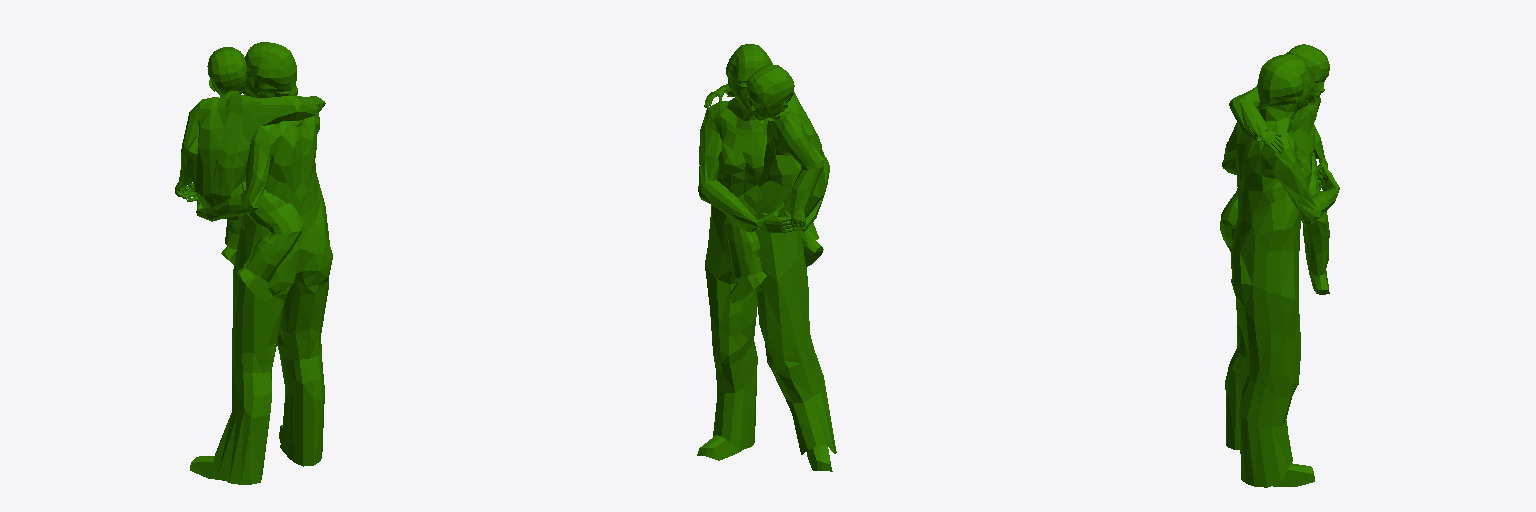
3 views of the same model, side by side, from view 1: azimuth 30°, elevation 25°; view 2: azimuth 150°, elevation 25°; view 3: azimuth 270°, elevation 25° (orthographic).
Parts seen in each view (by area): view 1: CBoy0003_Se; view 2: CBoy0003_Se; view 3: CBoy0003_Se.
Part boxes in pixels (left/top/right/bottom): CBoy0003_Se: left=175, top=42, right=332, bottom=484; CBoy0003_Se: left=697, top=44, right=836, bottom=471; CBoy0003_Se: left=1220, top=44, right=1339, bottom=487.
Size of the model in its own units: 14.35 by 43.1 by 11.38.